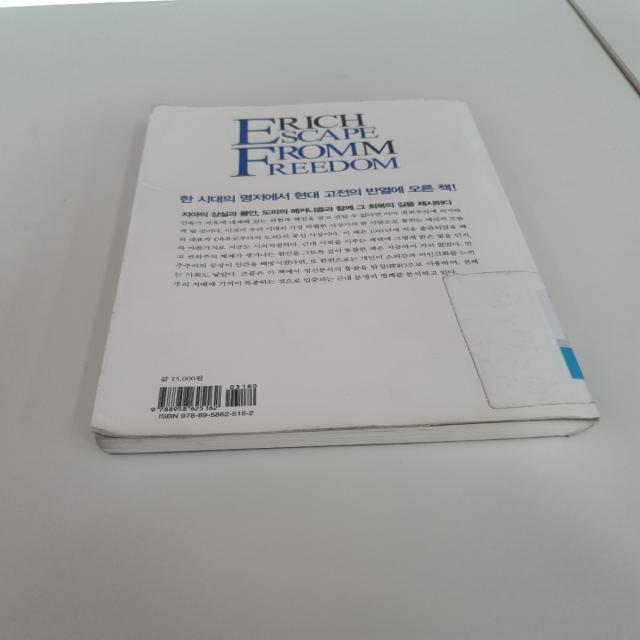Wornout: (82, 422, 431, 443), (431, 413, 600, 429), (145, 100, 192, 119)
